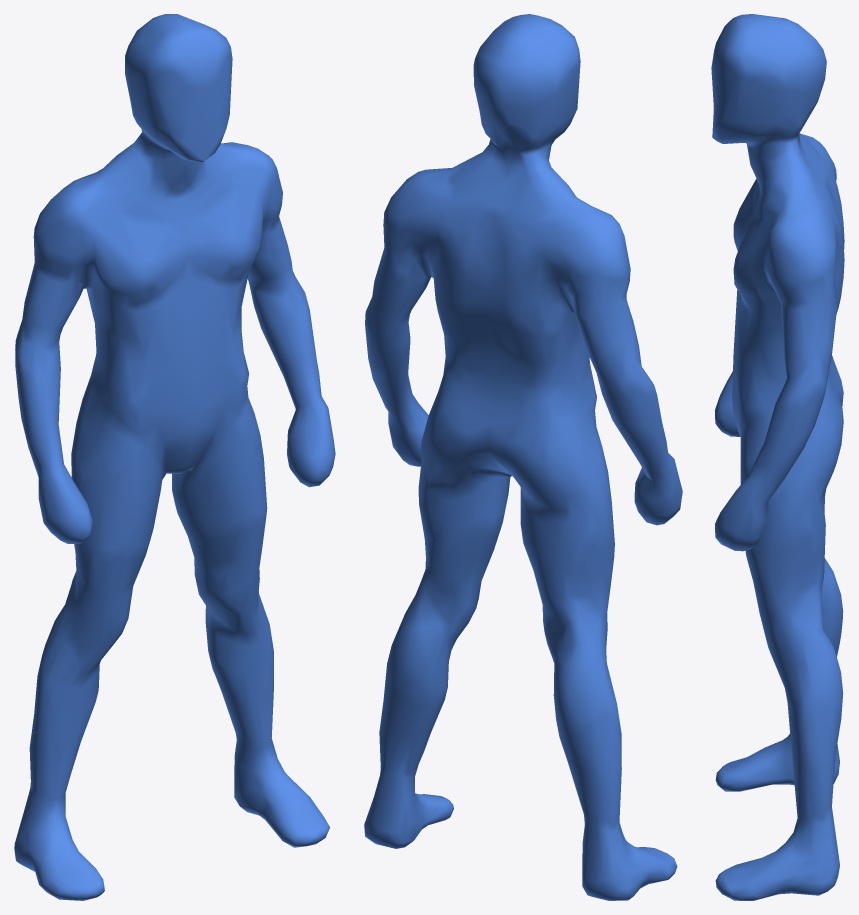
File: TMP_Knight.fbx
The picture shows the model from 3 angles, left to right: view 1: azimuth 30°, elevation 25°; view 2: azimuth 150°, elevation 25°; view 3: azimuth 270°, elevation 25°; orthographic projection. The views are drawn at different scales.
Visible parts, largest first — view 1: TMP_Knight; view 2: TMP_Knight; view 3: TMP_Knight.
Part boxes in pixels (x1,y1,x2,y2): TMP_Knight: [14, 14, 335, 900]; TMP_Knight: [364, 14, 682, 900]; TMP_Knight: [711, 14, 844, 900].
Bounding box in the file's own units: 72.16 × 200 × 29.39.
